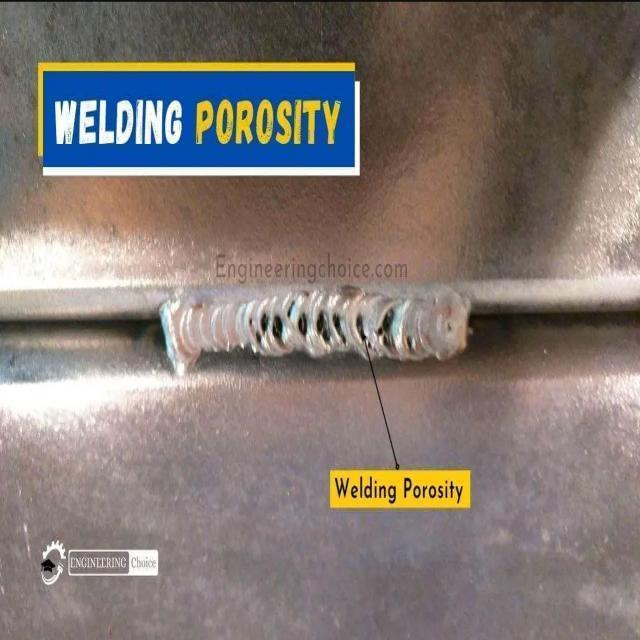defect: (253, 298, 299, 347), (376, 304, 398, 352), (353, 310, 375, 352), (316, 310, 331, 344), (332, 312, 347, 345), (297, 310, 309, 339), (405, 333, 417, 354), (249, 317, 254, 327)
